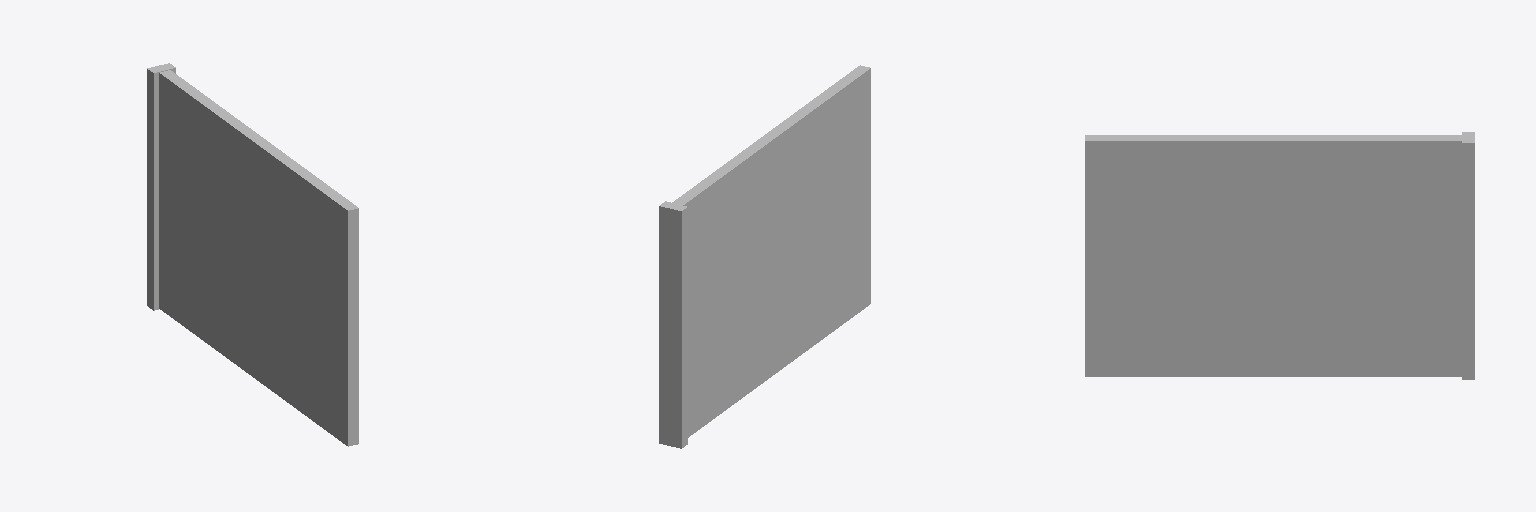
File: wall2x3.obj
3 views of the same model, side by side, from view 1: azimuth 30°, elevation 25°; view 2: azimuth 150°, elevation 25°; view 3: azimuth 270°, elevation 25° (orthographic).
Visible parts, largest first — view 1: Cube.001, Cube; view 2: Cube.001, Cube; view 3: Cube.001, Cube.
Boxes of the visible parts, <box> form: Cube.001: <box>159,70,358,446</box>; Cube: <box>147,63,175,310</box>; Cube.001: <box>665,65,870,443</box>; Cube: <box>659,201,687,448</box>; Cube.001: <box>1085,135,1461,376</box>; Cube: <box>1462,132,1474,379</box>.
Bounding box in the file's own units: 20 × 201 × 300.